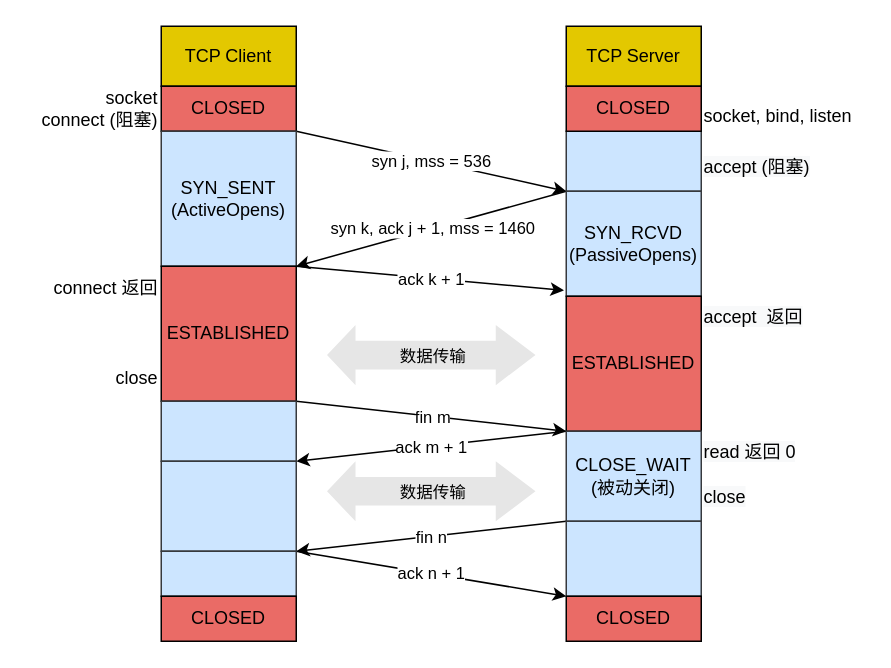
Some shapes in this 891 by 668 pixel diagram are drawn without their labels. Each missing label, with the centre of its shape:
"FIN_WAIT_1 (主动关闭)" belongs at (x=228, y=430).
"FIN_WAIT_2" belongs at (x=228, y=505).
"LAST_ACK" belongs at (x=633, y=558).
"LISTEN" belongs at (x=633, y=160).
"TIME_WAIT" belongs at (x=228, y=573).
